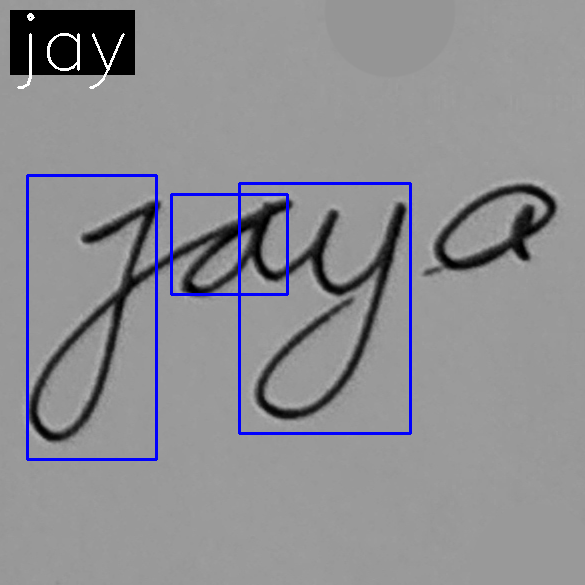a: (425, 179, 560, 274), (176, 201, 274, 300)
j: (25, 195, 164, 445)
y: (247, 199, 407, 425)
